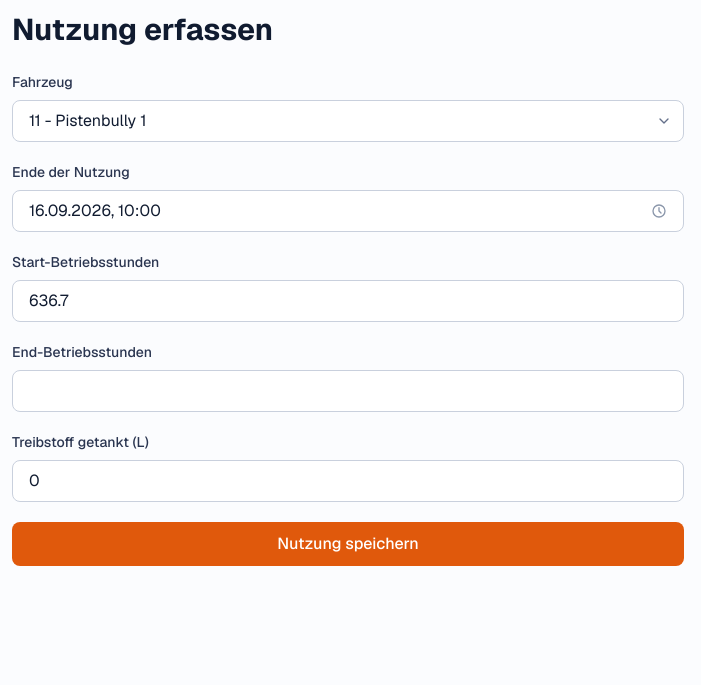
Test case: Nutzung erfassen › input validation › rejects a submit with an end below the start even if the button was bypassed
Expected: the number field with id "startOperatingHours" is enabled, [12, 280, 684, 322]
Expected: the number field with id "startOperatingHours" is not empty, [12, 280, 684, 322]
Type "100" into the number field with id "endOperatingHours" at (348, 391), box [12, 370, 684, 412]
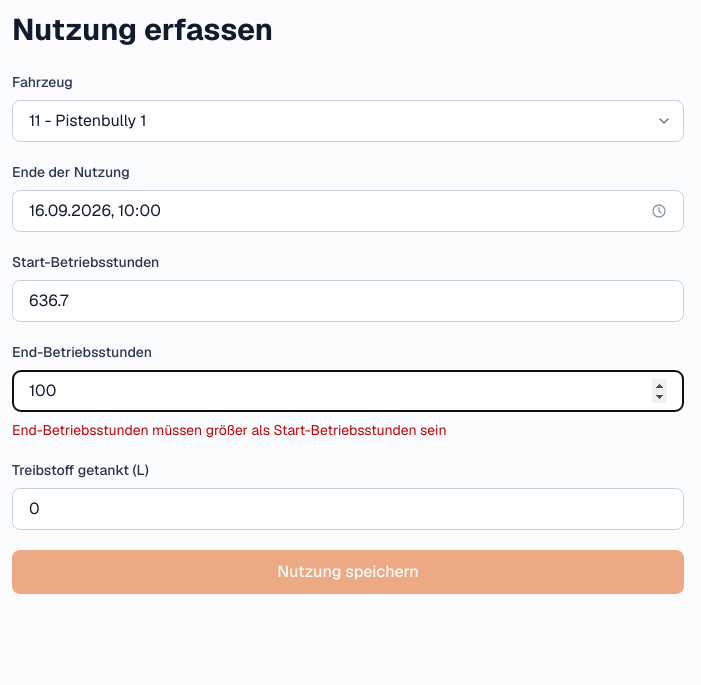
Submit the form
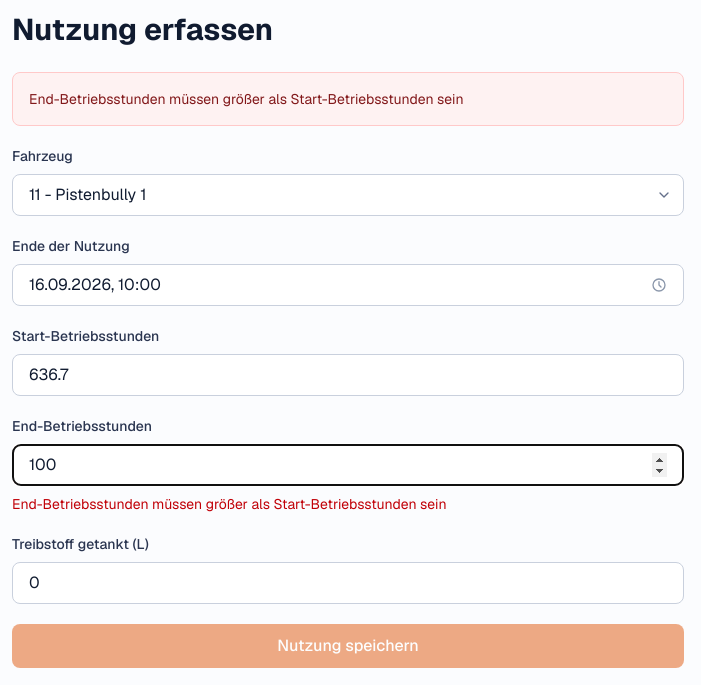
Result: the text "End-Betriebsstunden müssen größer als Start-Betriebsstunden sein" is shown 2 times at [29, 90, 464, 108]; [12, 495, 447, 513]
